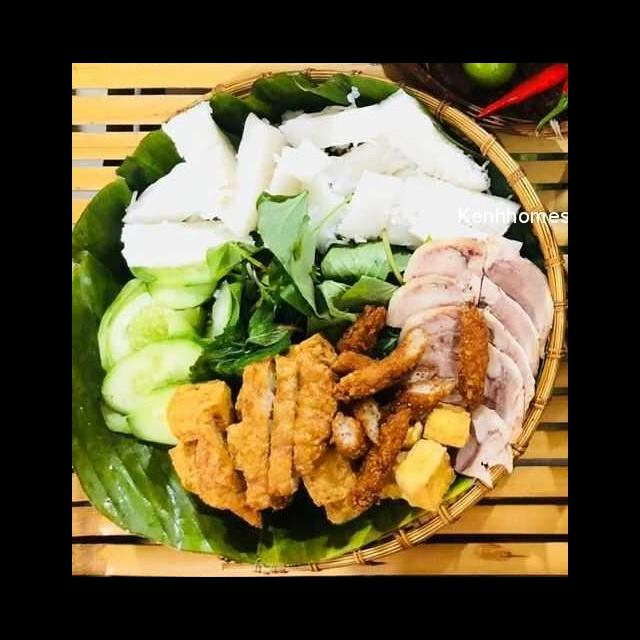bun: (264, 83, 530, 261), (116, 90, 297, 279)
bun dau: (82, 102, 568, 571)
cha com: (324, 300, 462, 511), (221, 329, 349, 528), (163, 405, 277, 530), (446, 304, 496, 415)
dau hu: (389, 428, 461, 510), (159, 374, 239, 442), (420, 399, 476, 453)
thit heo: (384, 231, 553, 494)
